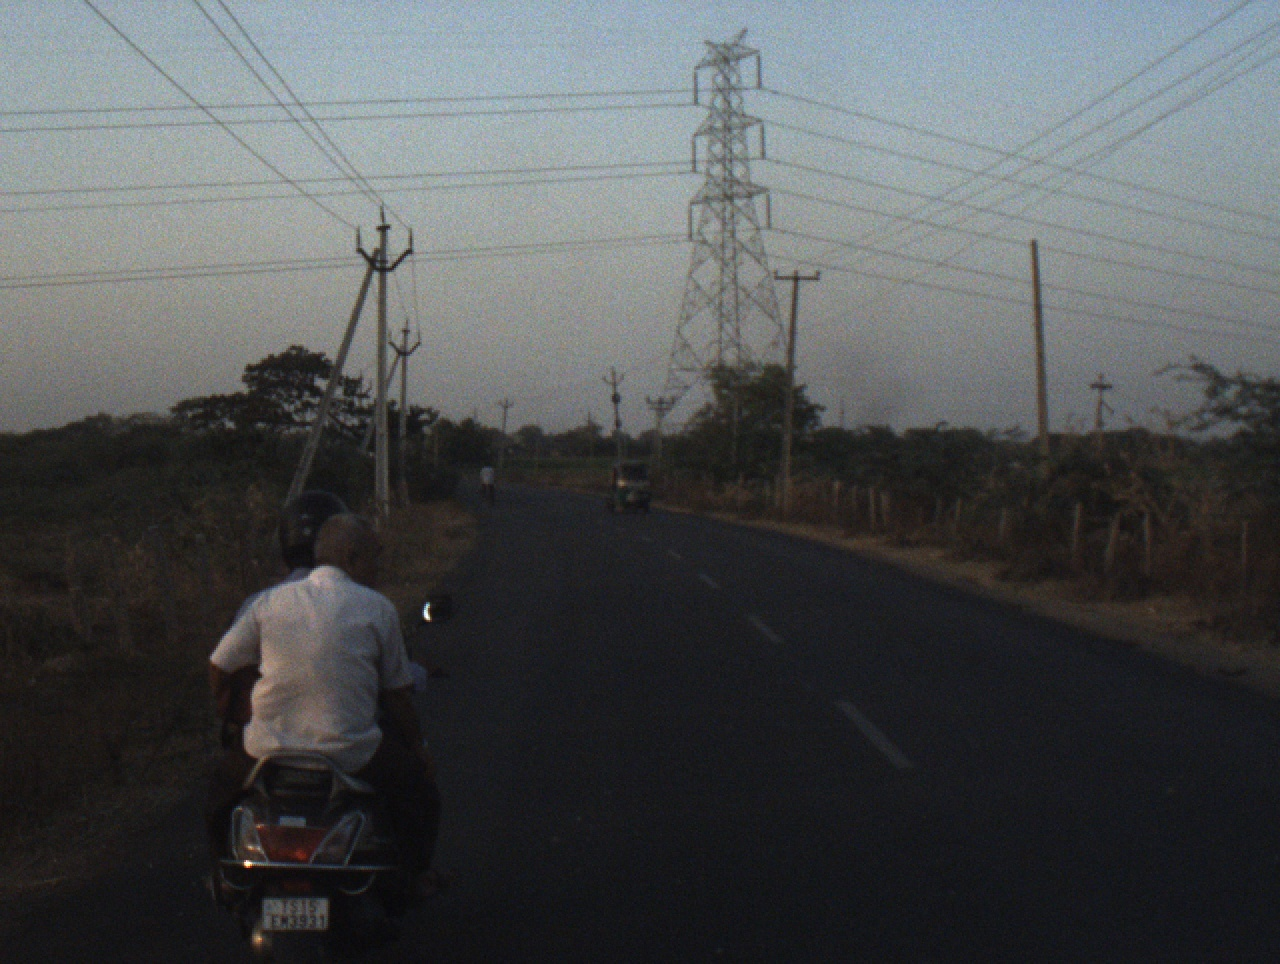autorickshaw: (605, 460, 657, 508)
bicycle: (484, 483, 493, 507)
motorcycle: (189, 580, 460, 962)
rider: (190, 515, 436, 901), (230, 479, 346, 669), (475, 462, 497, 495)
